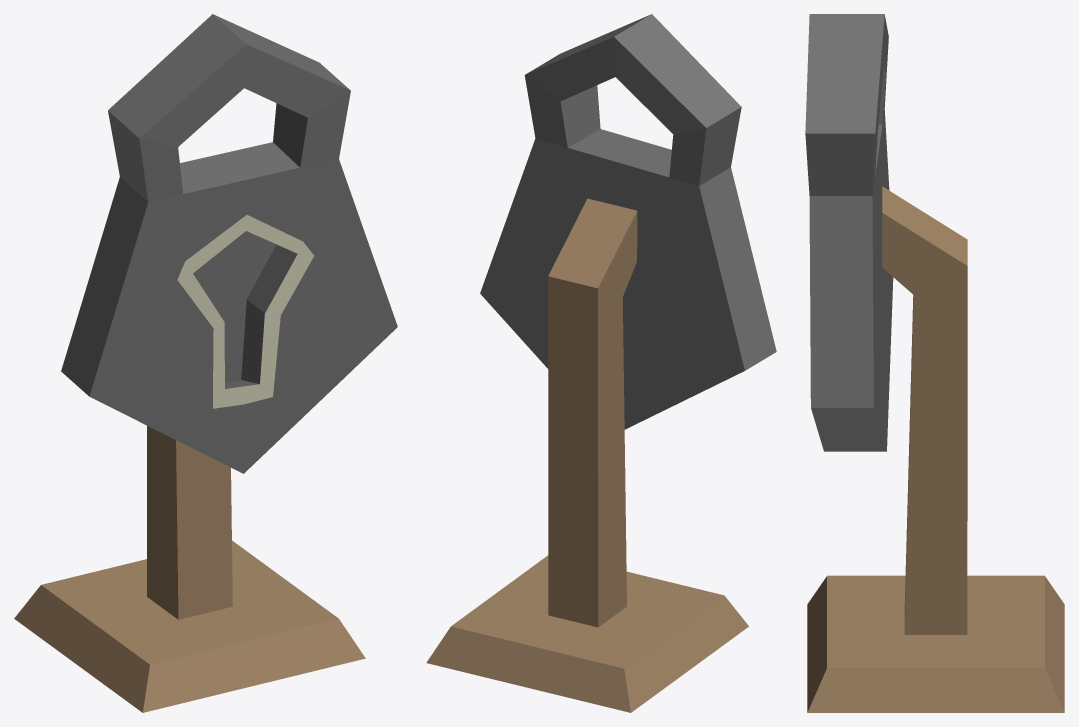
Rendered from item_lock.fbx.
The picture shows the model from 3 angles, left to right: view 1: azimuth 30°, elevation 25°; view 2: azimuth 150°, elevation 25°; view 3: azimuth 270°, elevation 25°; orthographic projection. The views are drawn at different scales.
Parts seen in each view (by area): view 1: pCube8; view 2: pCube8; view 3: pCube8.
Boxes of the visible parts, box(x1,y1,x2,y2) form: pCube8: box(14, 14, 397, 712); pCube8: box(426, 14, 776, 712); pCube8: box(805, 14, 1064, 712).
Bounding box in the file's own units: 0.3695 × 0.7538 × 0.2753.
